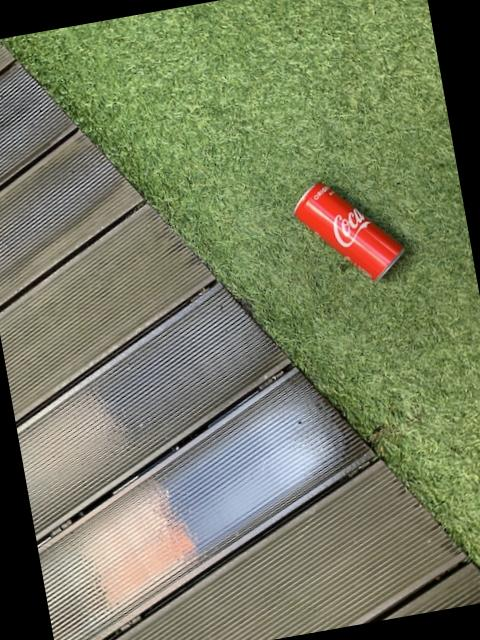metal: (293, 181, 401, 278)
